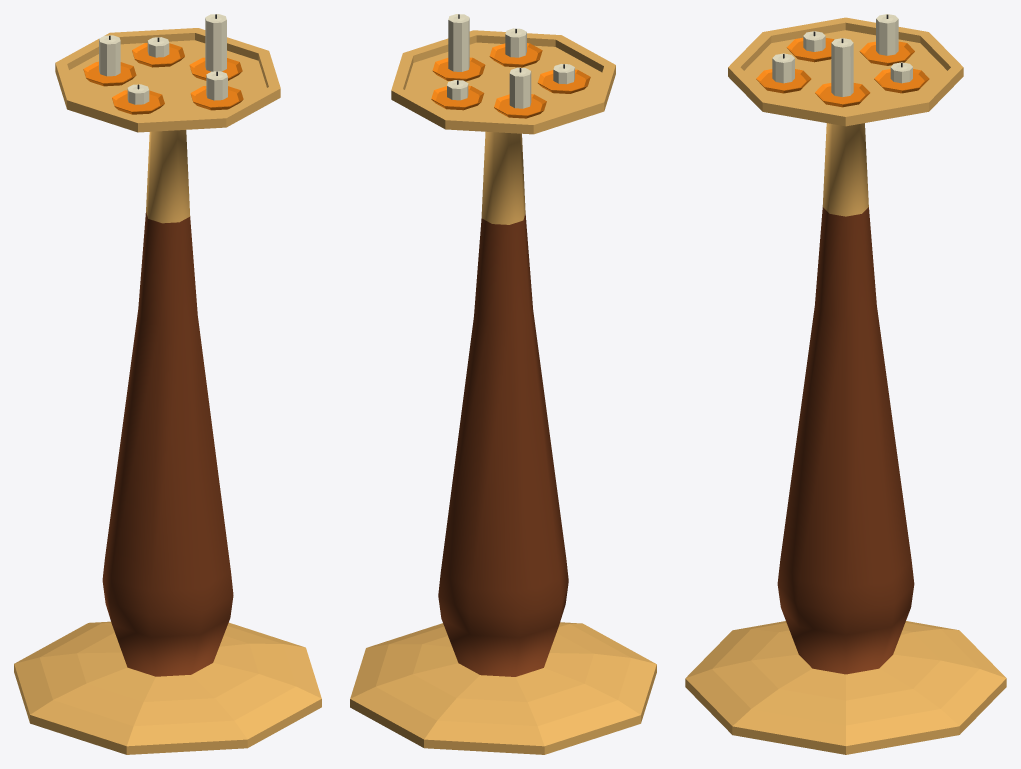
The model's file is ChandelierMedieval.fbx.
3 renders of one model, left to right at view 1: azimuth 30°, elevation 25°; view 2: azimuth 150°, elevation 25°; view 3: azimuth 270°, elevation 25°, orthographic.
Visible parts, largest first — view 1: ChandelierMedieval; view 2: ChandelierMedieval; view 3: ChandelierMedieval.
Part boxes in pixels (left/top/right/bottom): ChandelierMedieval: left=14, top=14, right=321, bottom=754; ChandelierMedieval: left=350, top=14, right=656, bottom=754; ChandelierMedieval: left=685, top=14, right=1006, bottom=754.
Bounding box in the file's own units: 52.17 × 120 × 52.17.
